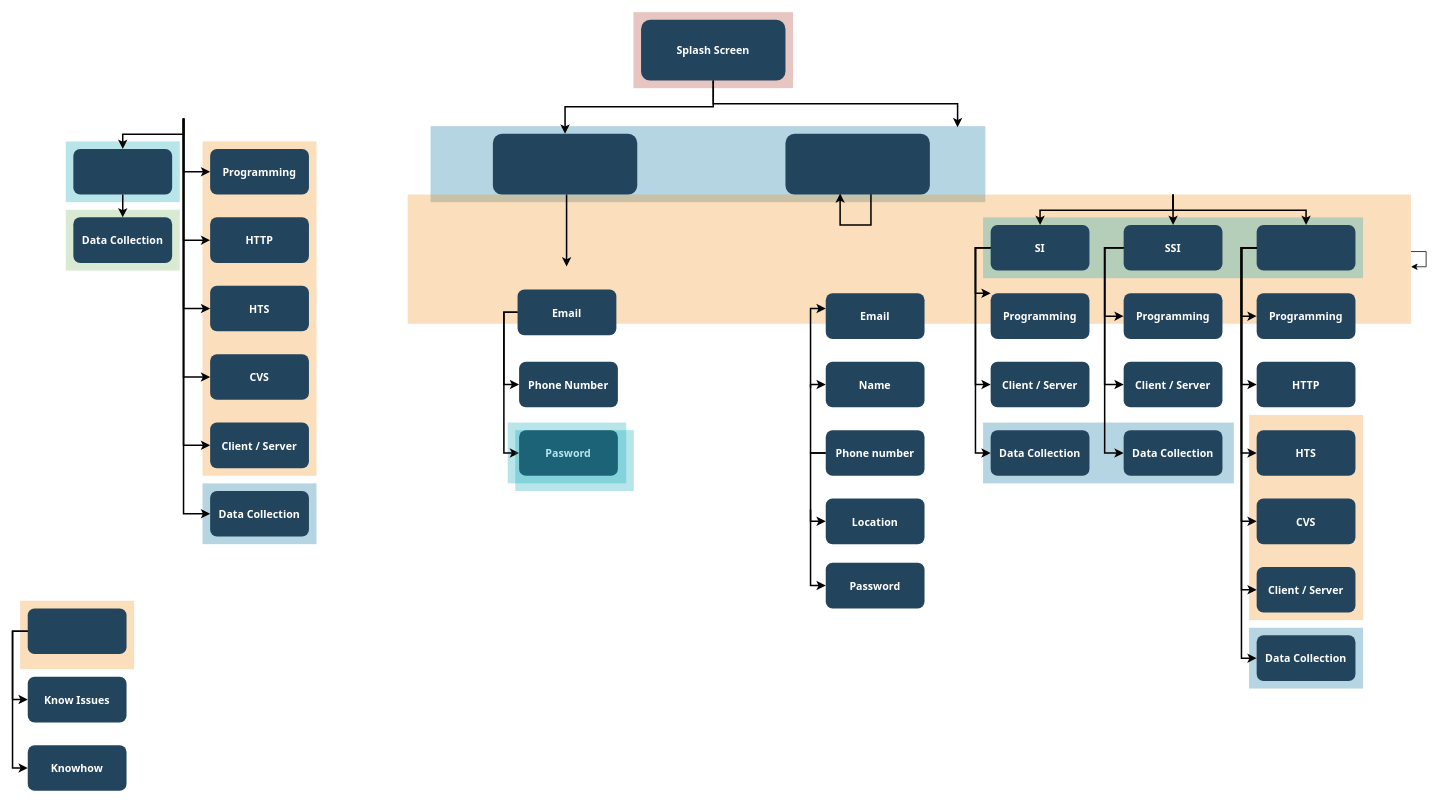
The diagram is 1439 pixels wide and 803 high, and some of its shapes have lost their labels. Here are the shapes that lost their labels. From the top down, the centre of each, then its label:
At (122,171): "Regular Report".
At (564,163): "Login".
At (857,163): "SignUp".
At (1305,247): "XMI".
At (76,631): "FAQ".
